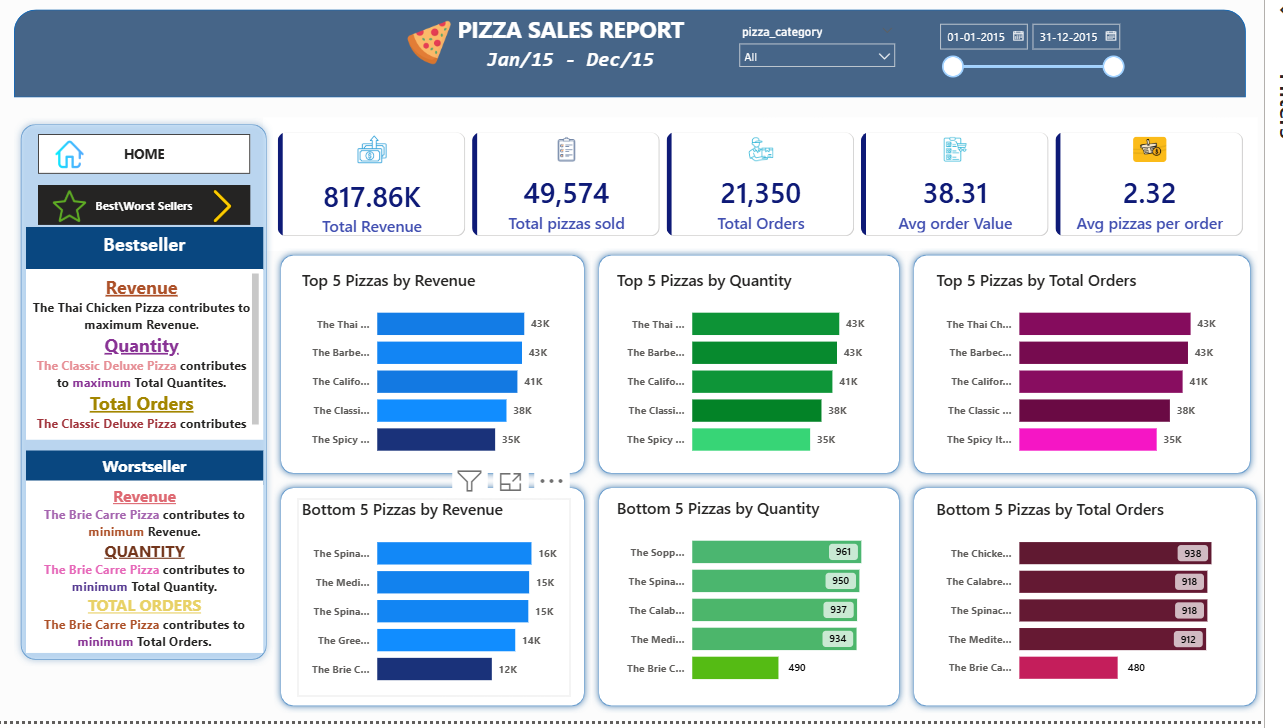

The page's visual inventory and layout, read from the dashboard file:
{"tool":"powerbi","page":{"name":"Best\\Worst Sellers","canvas":[1500,875],"ordinal":1},"visuals":[{"type":"cardVisual","fields":{"Data":["pizza_sales.Total Revenue","pizza_sales.Total pizzas sold","pizza_sales.Total Orders","pizza_sales.Avg order Value","pizza_sales.Avg pizzas per order"]},"box":[315.9,161.5,1176.5,157.9],"z":0},{"type":"shape","box":[22.1,33.2,1457.2,104.1],"z":1000},{"type":"textbox","box":[527.1,59.8,268,57.6],"z":2000},{"type":"textbox","box":[527.1,33.2,305.6,64.2],"z":3000},{"type":"textbox","box":[493.9,73.1,372.1,48.7],"z":4000},{"type":"image","box":[478.4,46.5,66.4,53.2],"z":5000},{"type":"shape","box":[328.3,315.9,376.2,275],"z":6000},{"type":"shape","box":[21.3,161.5,307,649.5],"z":7000},{"type":"textbox","box":[35.5,291,280.4,49.7],"z":8000},{"type":"textbox","box":[35.5,340.7,280.4,202.3],"z":9000},{"type":"textbox","box":[35.5,555.4,280.4,40.8],"z":10000},{"type":"textbox","box":[35.5,590.9,280.4,204.1],"z":11000},{"type":"slicer","fields":{"Values":["pizza_sales.pizza_category"]},"box":[869.5,46.1,204.1,74.5],"z":12000},{"type":"slicer","fields":{"Values":["pizza_sales.order_date"]},"box":[1103.7,40.8,239.6,86.9],"z":13000},{"type":"shape","box":[704.5,315.9,372.6,275],"z":14000},{"type":"shape","box":[1077.1,315.9,415.2,275],"z":15000},{"type":"shape","box":[328.3,590.9,376.2,275],"z":16000},{"type":"shape","box":[704.5,590.9,372.6,275],"z":17000},{"type":"shape","box":[1077.1,590.9,422.3,275],"z":18000},{"type":"barChart","title":"Top 5 Pizzas by Revenue","fields":{"Category":["pizza_sales.pizza_name"],"Y":["pizza_sales.Total Revenue"]},"box":[356.7,340.7,323,234.2],"z":19000},{"type":"barChart","title":"Bottom 5 Pizzas by Revenue","fields":{"Category":["pizza_sales.pizza_name"],"Y":["pizza_sales.Total Revenue"]},"box":[356.7,612.2,323,234.2],"z":20000},{"type":"barChart","title":"Bottom 5 Pizzas by Quantity","fields":{"Category":["pizza_sales.pizza_name"],"Y":["pizza_sales.Total pizzas sold"]},"box":[728.6,611.2,323.3,234.7],"z":21000},{"type":"barChart","title":"Bottom 5 Pizzas by Total Orders","fields":{"Category":["pizza_sales.pizza_name"],"Y":["pizza_sales.Total Orders"]},"box":[1107.3,612.2,362,232.5],"z":22000},{"type":"barChart","title":"Top 5 Pizzas by Quantity","fields":{"Category":["pizza_sales.pizza_name"],"Y":["pizza_sales.Total Revenue"]},"box":[729.3,340.7,323,234.2],"z":23000},{"type":"barChart","title":"Top 5 Pizzas by Total Orders","fields":{"Category":["pizza_sales.pizza_name"],"Y":["pizza_sales.Total Revenue"]},"box":[1107.3,340.7,362,234.2],"z":24000},{"type":"pageNavigator","box":[49.7,241.3,252,47.9],"z":25000},{"type":"pageNavigator","box":[49.7,181,252,47.9],"z":26000},{"type":"image","box":[49.7,188.1,74.5,33.7],"z":27000},{"type":"image","box":[42.6,246.6,88.7,39],"z":28000},{"type":"image","box":[234.2,246.6,67.4,39],"z":29000}]}

Visuals, with their boxes in screenshot pixels (x1, y1, x2, y2), scaled from the page's 1500x875 canvas onto the 1283x728 screenshot:
cardVisual - pizza_sales.Total Revenue x pizza_sales.Total pizzas sold: [left=270, top=134, right=1276, bottom=266]
shape: [left=19, top=28, right=1265, bottom=114]
textbox: [left=451, top=50, right=680, bottom=98]
textbox: [left=451, top=28, right=712, bottom=81]
textbox: [left=422, top=61, right=741, bottom=101]
image: [left=409, top=39, right=466, bottom=83]
shape: [left=281, top=263, right=603, bottom=492]
shape: [left=18, top=134, right=281, bottom=675]
textbox: [left=30, top=242, right=270, bottom=283]
textbox: [left=30, top=283, right=270, bottom=452]
textbox: [left=30, top=462, right=270, bottom=496]
textbox: [left=30, top=492, right=270, bottom=661]
slicer - pizza_sales.pizza_category: [left=744, top=38, right=918, bottom=100]
slicer - pizza_sales.order_date: [left=944, top=34, right=1149, bottom=106]
shape: [left=603, top=263, right=921, bottom=492]
shape: [left=921, top=263, right=1276, bottom=492]
shape: [left=281, top=492, right=603, bottom=720]
shape: [left=603, top=492, right=921, bottom=720]
shape: [left=921, top=492, right=1282, bottom=720]
"Top 5 Pizzas by Revenue" barChart: [left=305, top=283, right=581, bottom=478]
"Bottom 5 Pizzas by Revenue" barChart: [left=305, top=509, right=581, bottom=704]
"Bottom 5 Pizzas by Quantity" barChart: [left=623, top=509, right=900, bottom=704]
"Bottom 5 Pizzas by Total Orders" barChart: [left=947, top=509, right=1257, bottom=703]
"Top 5 Pizzas by Quantity" barChart: [left=624, top=283, right=900, bottom=478]
"Top 5 Pizzas by Total Orders" barChart: [left=947, top=283, right=1257, bottom=478]
pageNavigator: [left=43, top=201, right=258, bottom=241]
pageNavigator: [left=43, top=151, right=258, bottom=190]
image: [left=43, top=156, right=106, bottom=185]
image: [left=36, top=205, right=112, bottom=238]
image: [left=200, top=205, right=258, bottom=238]
